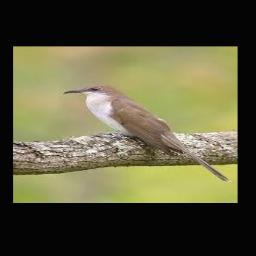Cuckoo: (63, 84, 231, 183)
